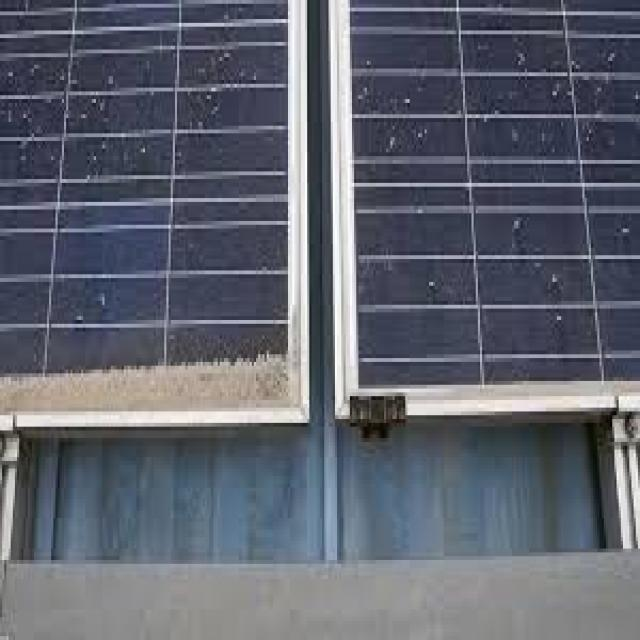faulty: (0, 4, 301, 409), (347, 0, 640, 396)
